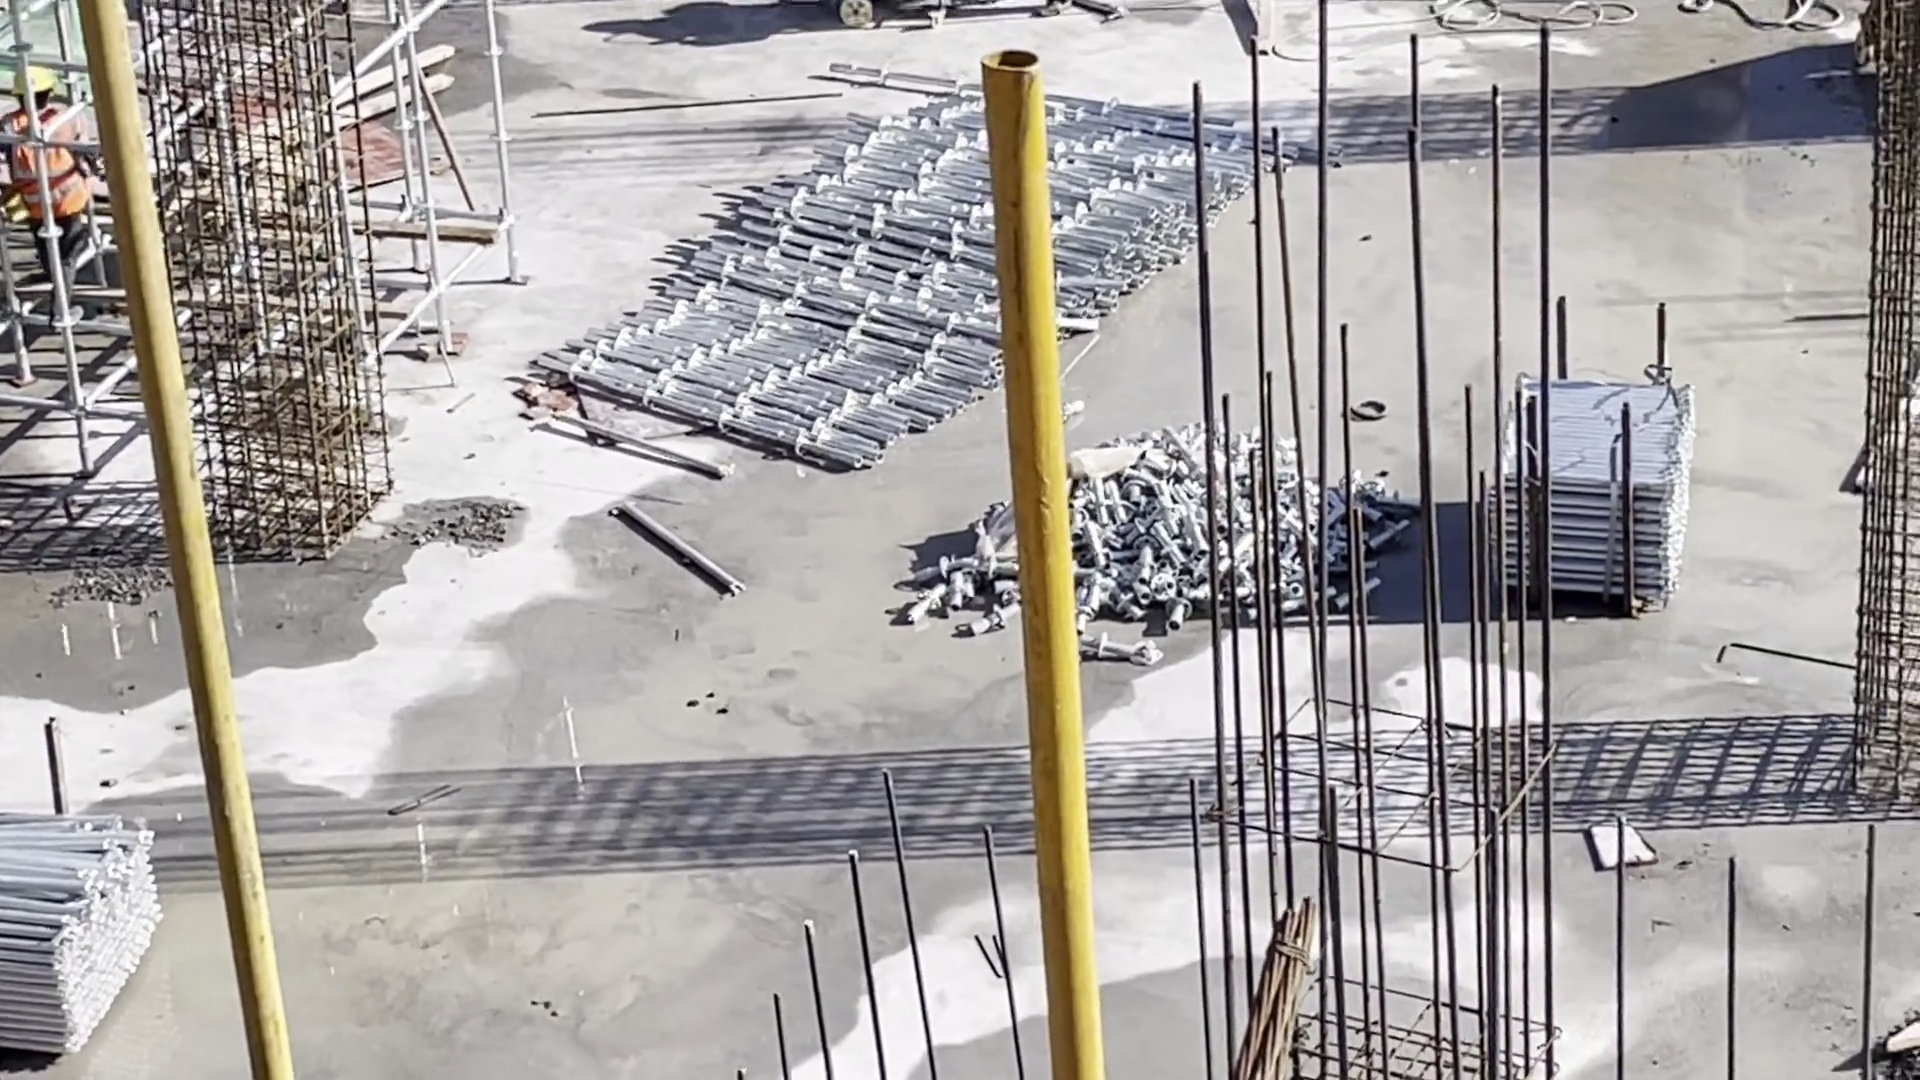helmet: (13, 68, 57, 101)
person: (4, 72, 106, 297)
scaffold: (528, 63, 1340, 474), (1498, 372, 1696, 607), (4, 802, 163, 1067)
vest: (6, 103, 100, 225)
